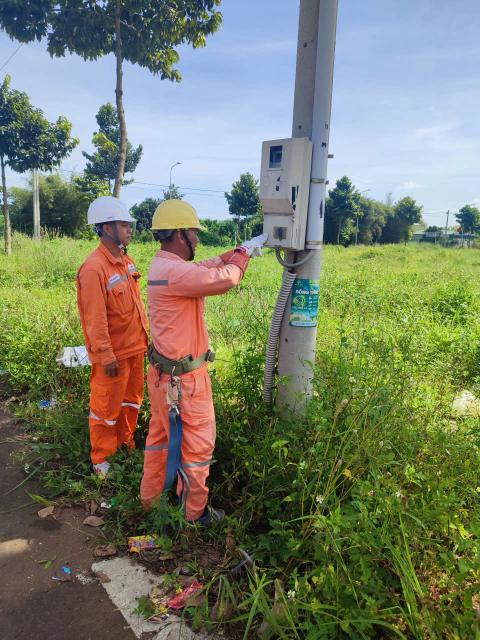gloves: (240, 227, 275, 263)
harness: (133, 343, 218, 399)
helmet: (77, 183, 140, 241), (148, 200, 206, 239)
shoes: (183, 501, 242, 541)
